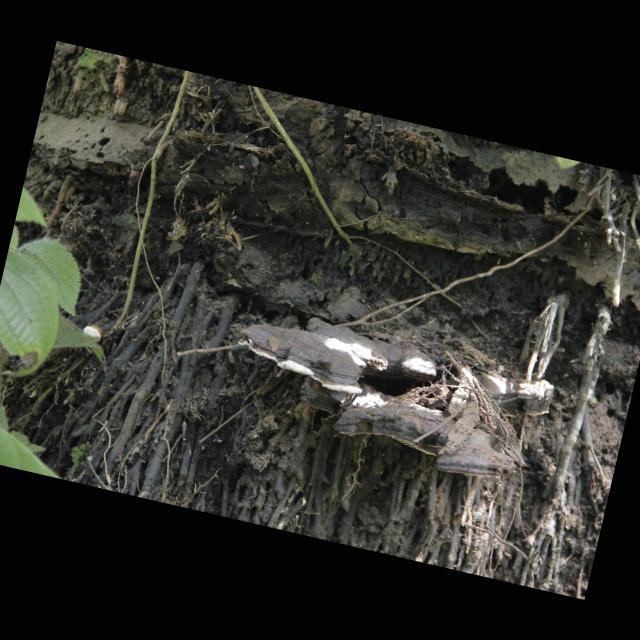ganoderma: (290, 366, 538, 491), (229, 301, 444, 415), (471, 366, 557, 428)
primordium: (81, 324, 106, 346)
